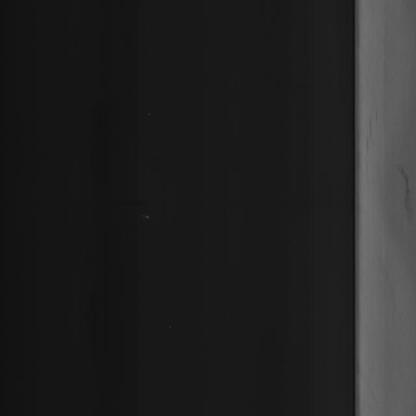water_spot: (393, 147, 416, 229)
